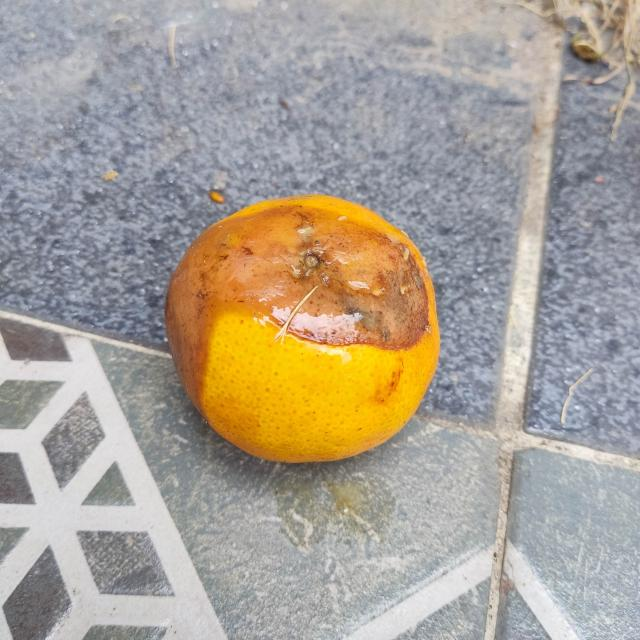orange: (164, 189, 443, 464)
